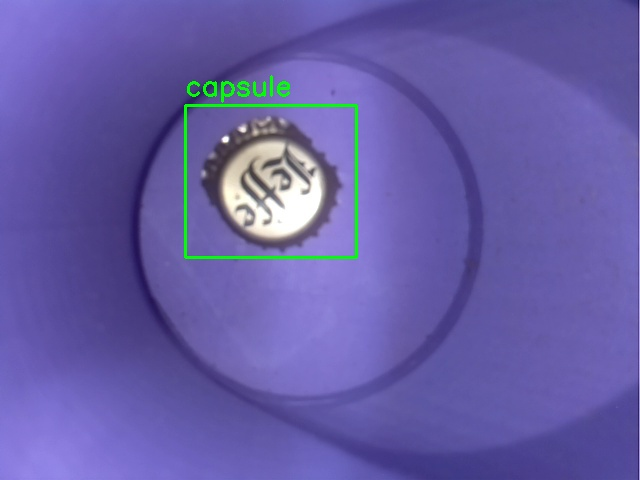capsule: (185, 105, 356, 257)
